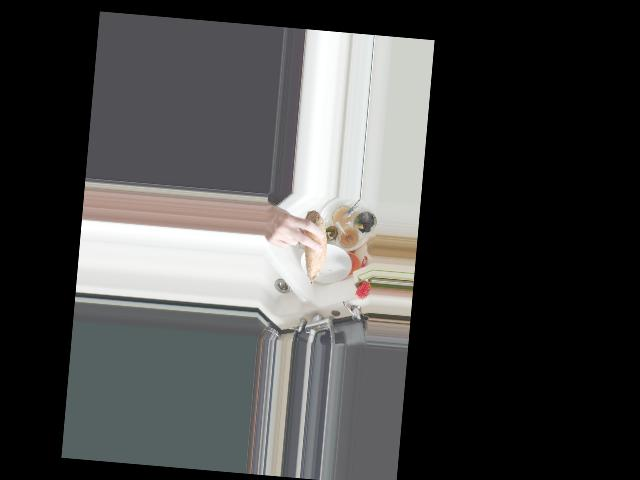sweet_potato: (295, 207, 329, 287)
